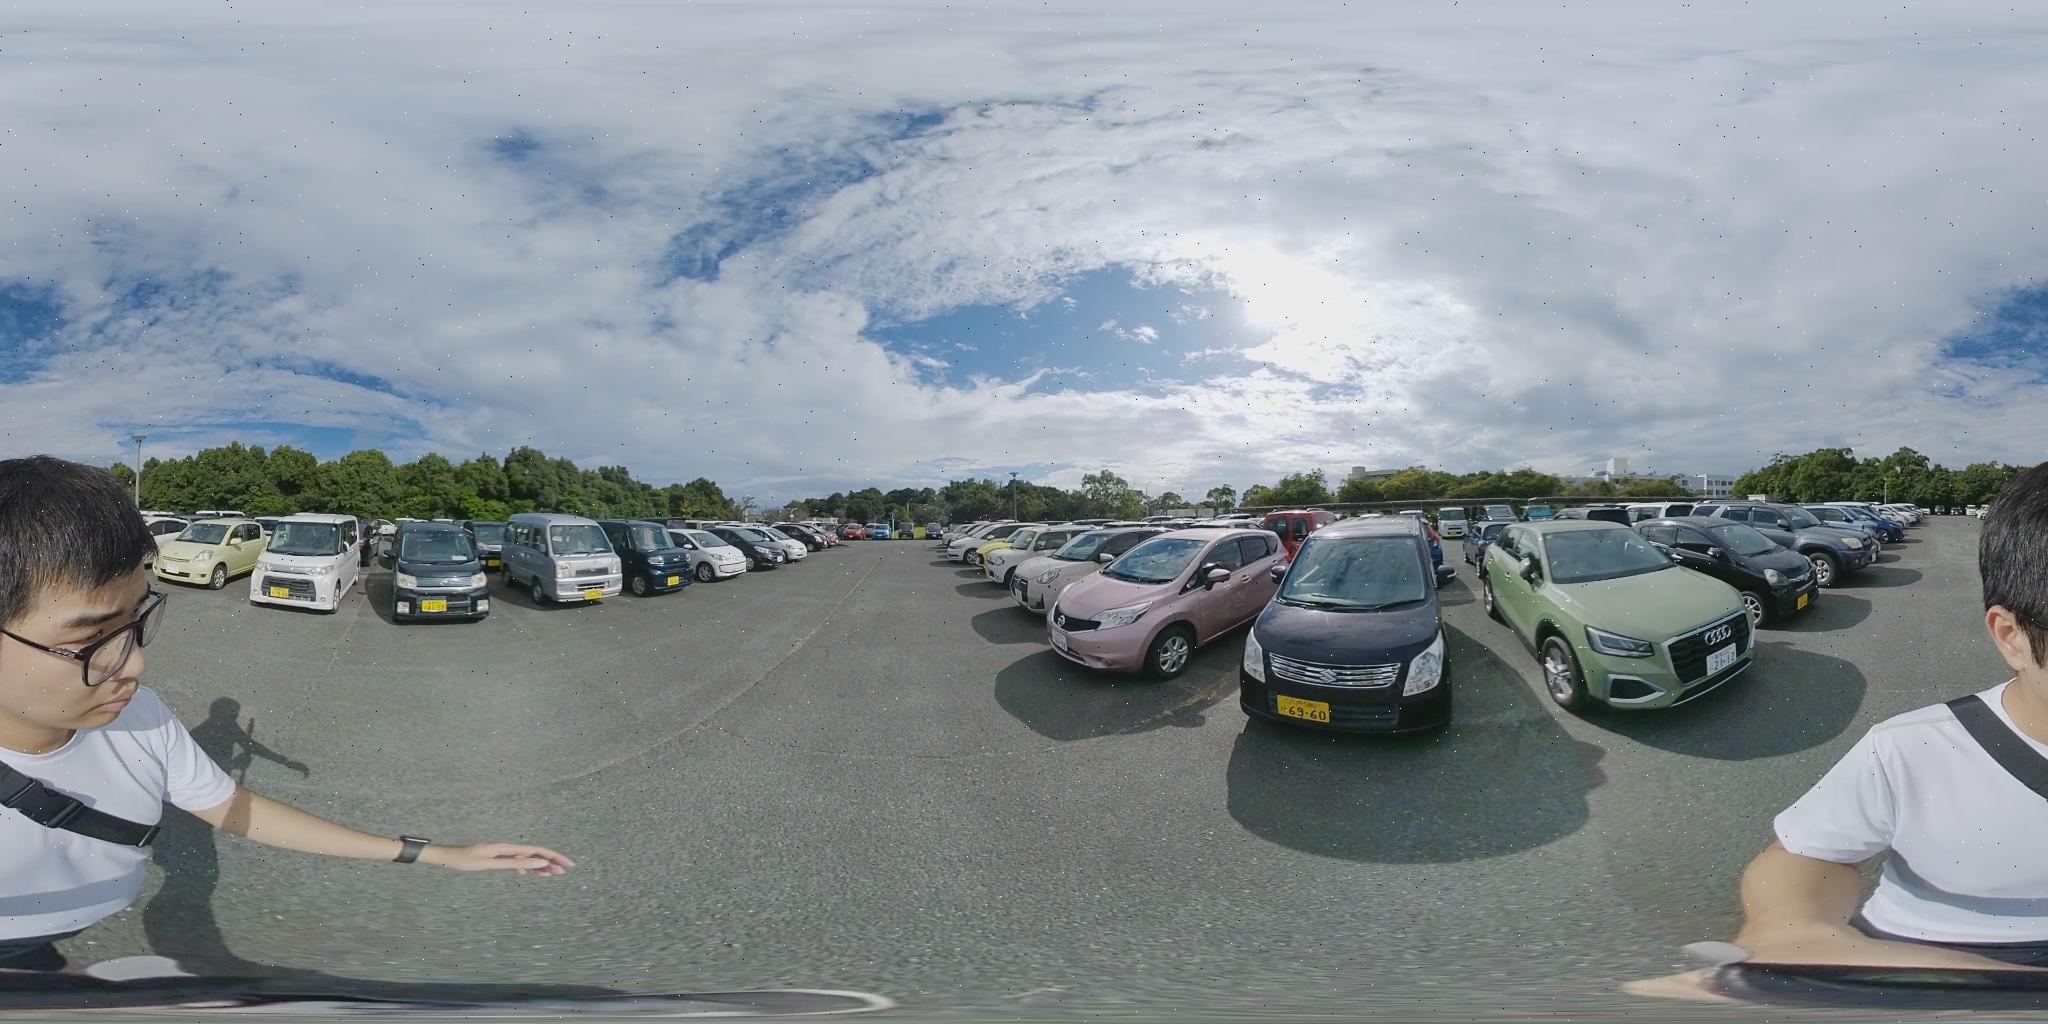car: (1460, 520, 1762, 708), (1246, 515, 1459, 734), (1041, 525, 1297, 679), (1624, 515, 1832, 626), (989, 529, 1169, 614), (1714, 504, 1893, 576), (508, 512, 618, 606), (259, 516, 358, 613), (396, 522, 486, 622), (601, 520, 704, 594), (153, 524, 268, 586), (662, 525, 752, 581), (712, 525, 805, 567), (939, 522, 1025, 562), (773, 522, 824, 555), (842, 525, 889, 543)
